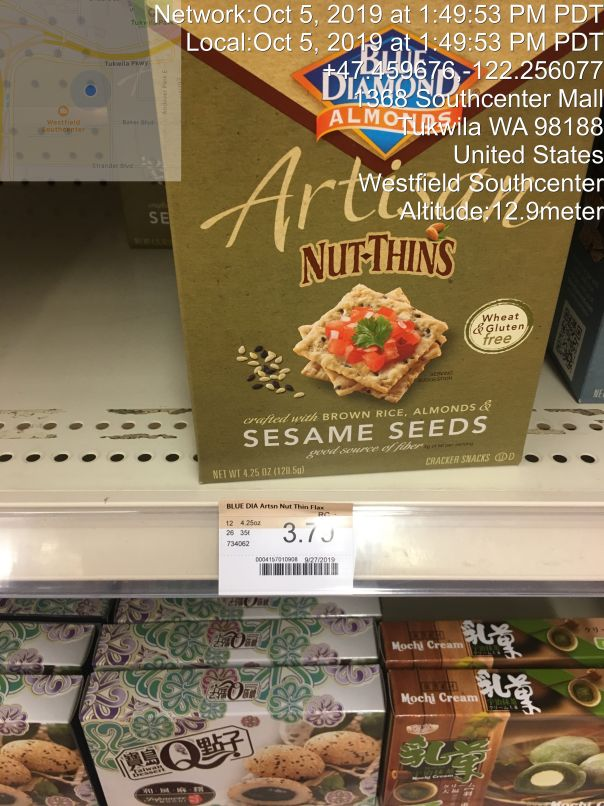Label: (204, 491, 369, 604)
Location: (351, 83, 604, 198)
Nut Thin Flex: (139, 1, 578, 488)
Time: (124, 3, 604, 58)
